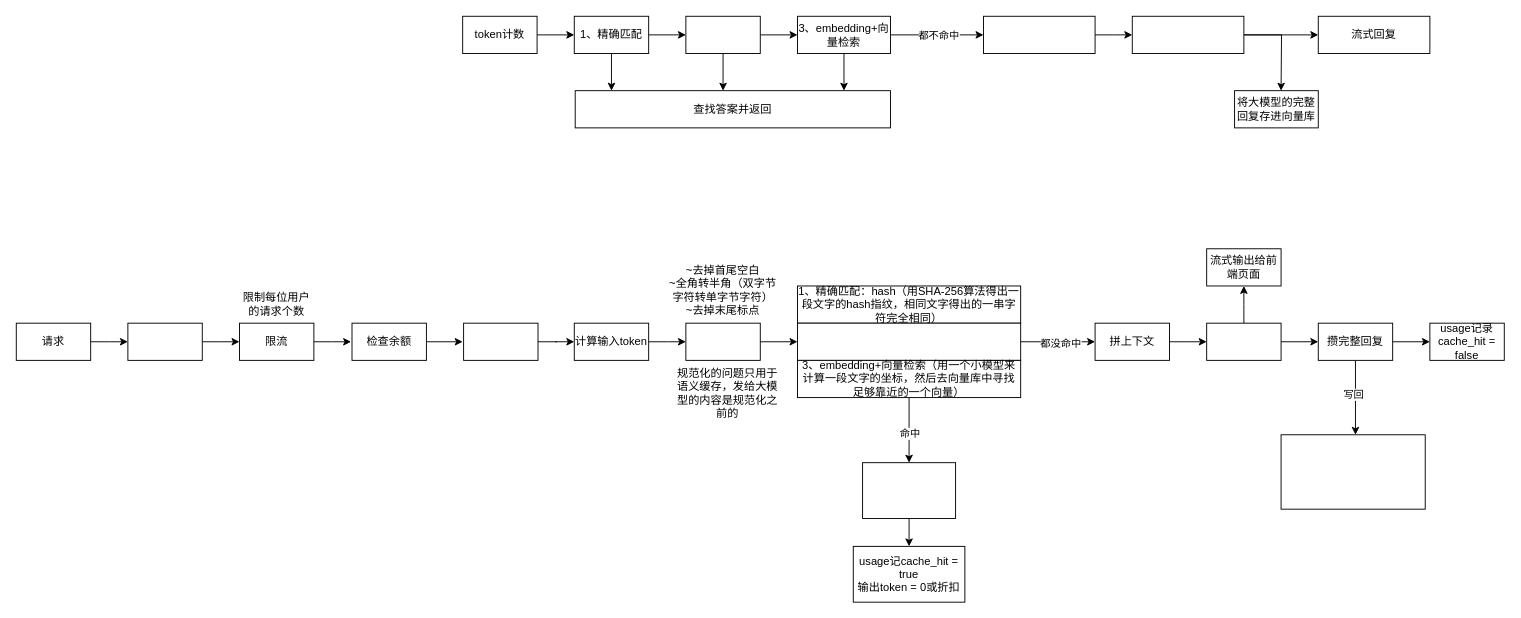
This 1521x618 diagram has some shape labels left out. Here are the shapes that lost their labels. From the top down, the centre of each, then its label:
the point at 722,34: 2、关键词 相似
the point at 1039,34: 拼接上下文
the point at 1187,34: 调用大模型
the point at 164,341: 鉴权
the point at 500,341: 敏感词
the point at 722,341: 问题规范化
the point at 909,341: 2、关键词检索（把一段文字切成两字一组，比较重叠的组的个数）
the point at 1243,341: 调大模型
the point at 909,490: SSE回放SQLite中answer表中对应的答案
